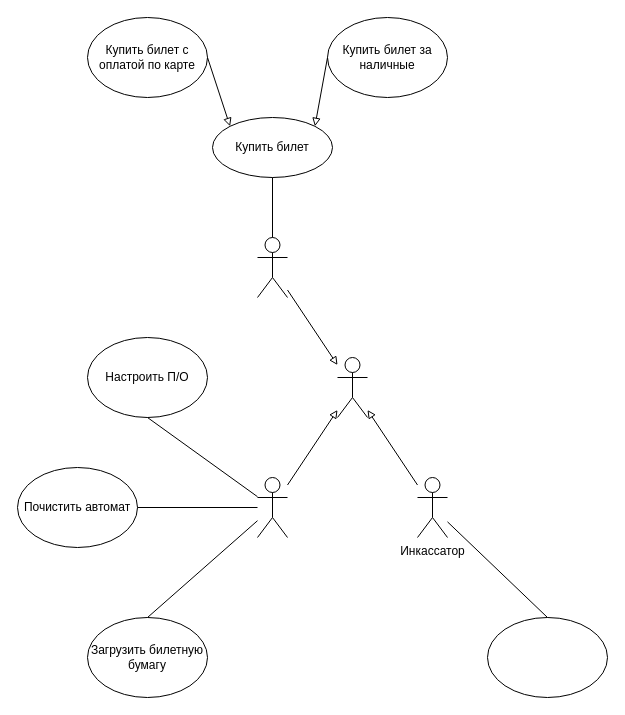
The diagram is 625 pixels wide and 715 high, and some of its shapes have lost their labels. The shapes that lost their labels are listed below. From the top down, each one's centre as x and y in pixels, then its label:
the point at 272,267: Покупатель
the point at 352,387: Actor
the point at 272,507: Обслуживающий персонал
the point at 547,657: Провести инкассацию
